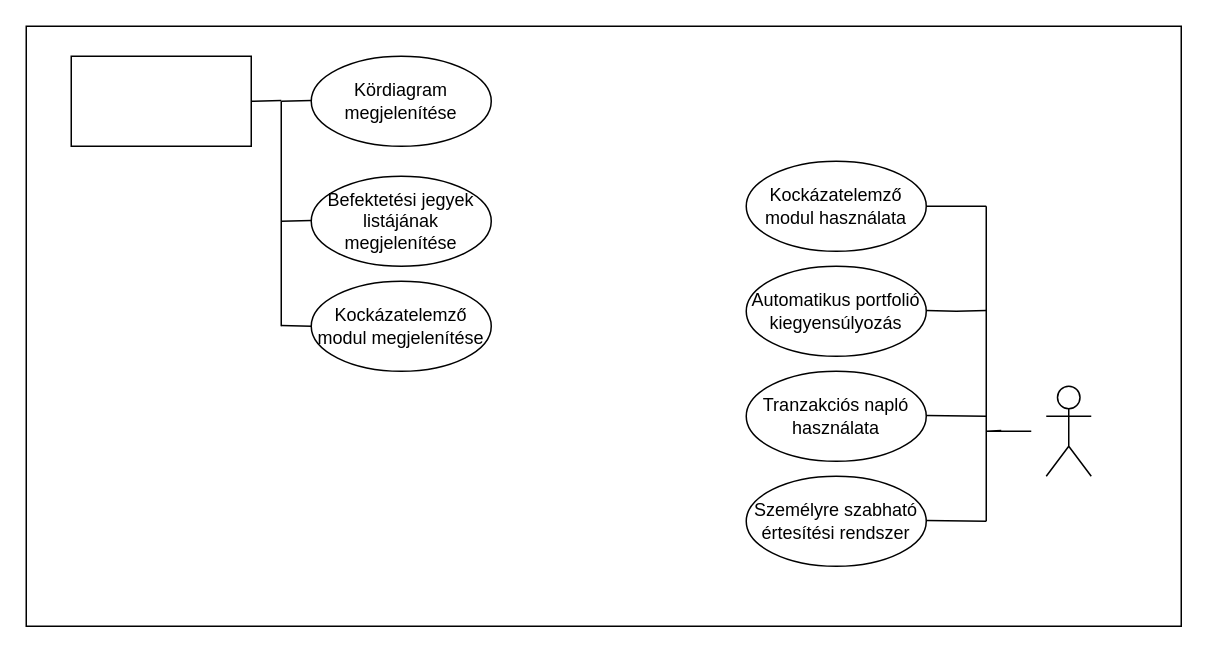
This 1208x653 diagram has some shape labels left out. Each missing label, with the centre of its shape:
"Befektetési szimulátor" belongs at point 160,100.
"Felhasználó" belongs at point 1068,430.
